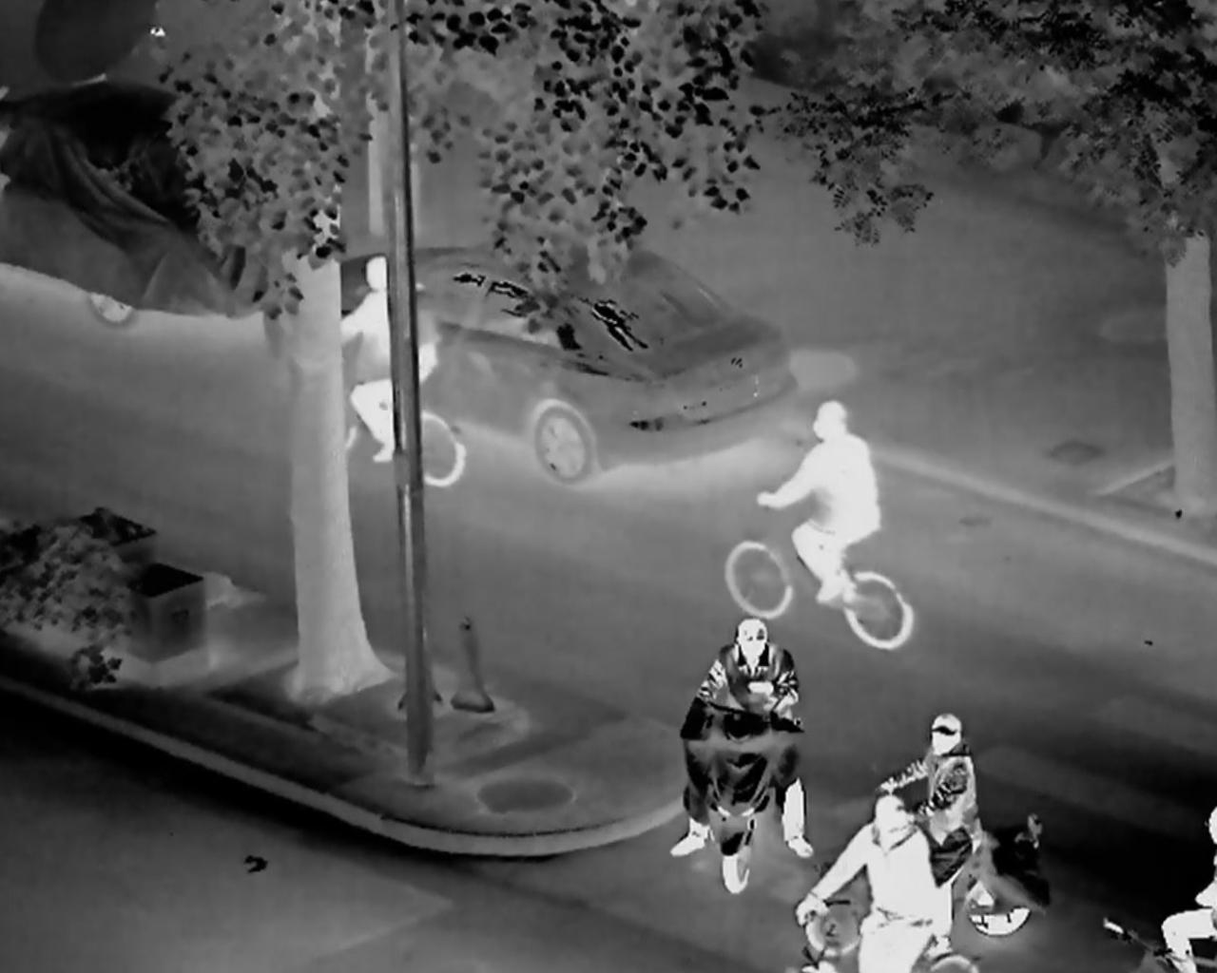person: (661, 612, 821, 868), (749, 391, 884, 623), (819, 792, 947, 973), (335, 251, 445, 458), (875, 709, 987, 898)
